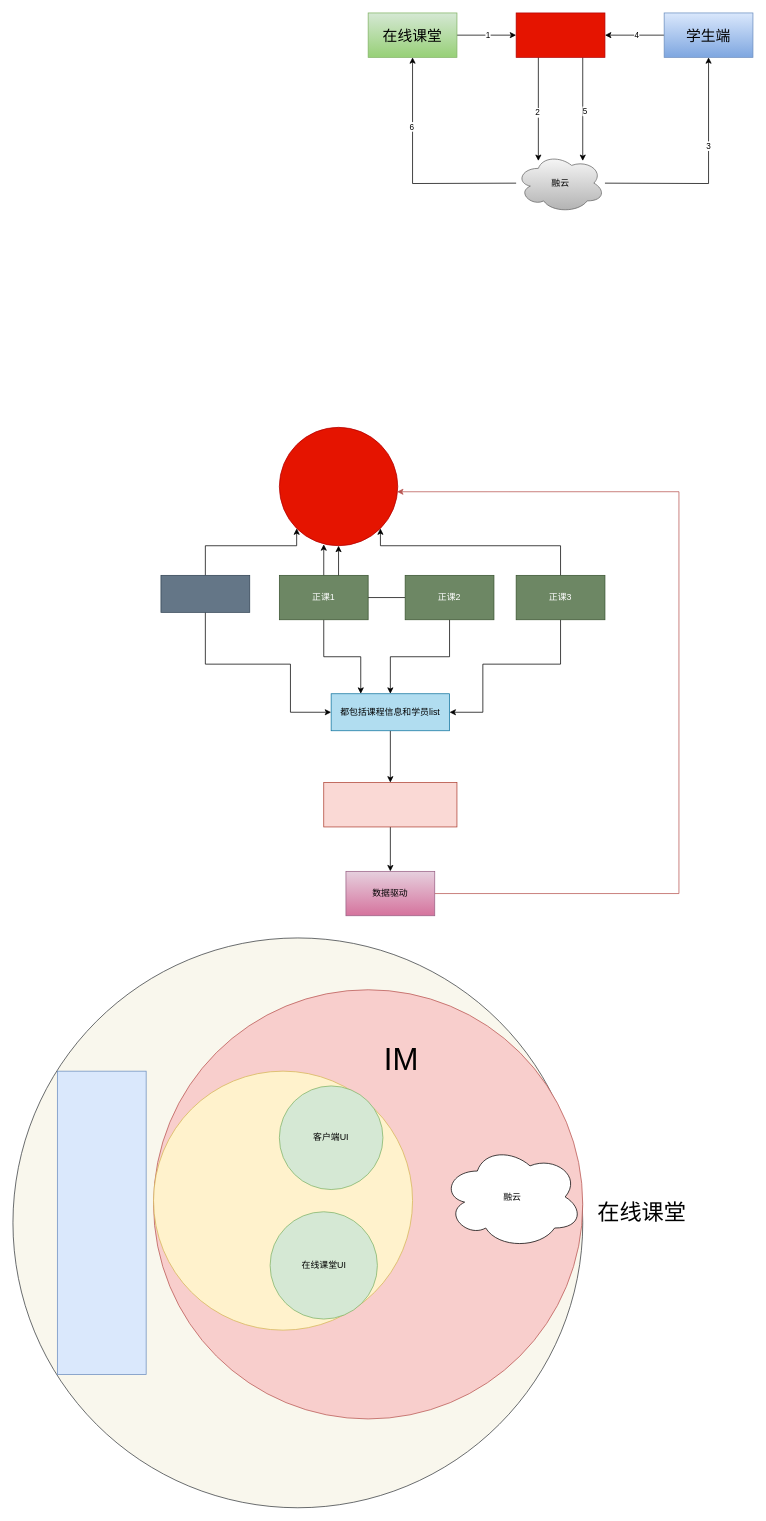
Some shapes in this 766 by 1521 pixel diagram are drawn without their labels. Each missing label, with the box of its shape:
分发给dom（TAB页）: (323, 782, 457, 827)
操作面板: (57, 1070, 146, 1375)
服务: (515, 12, 605, 57)
班级纬度list: (279, 427, 398, 546)
补课: (160, 575, 250, 612)
